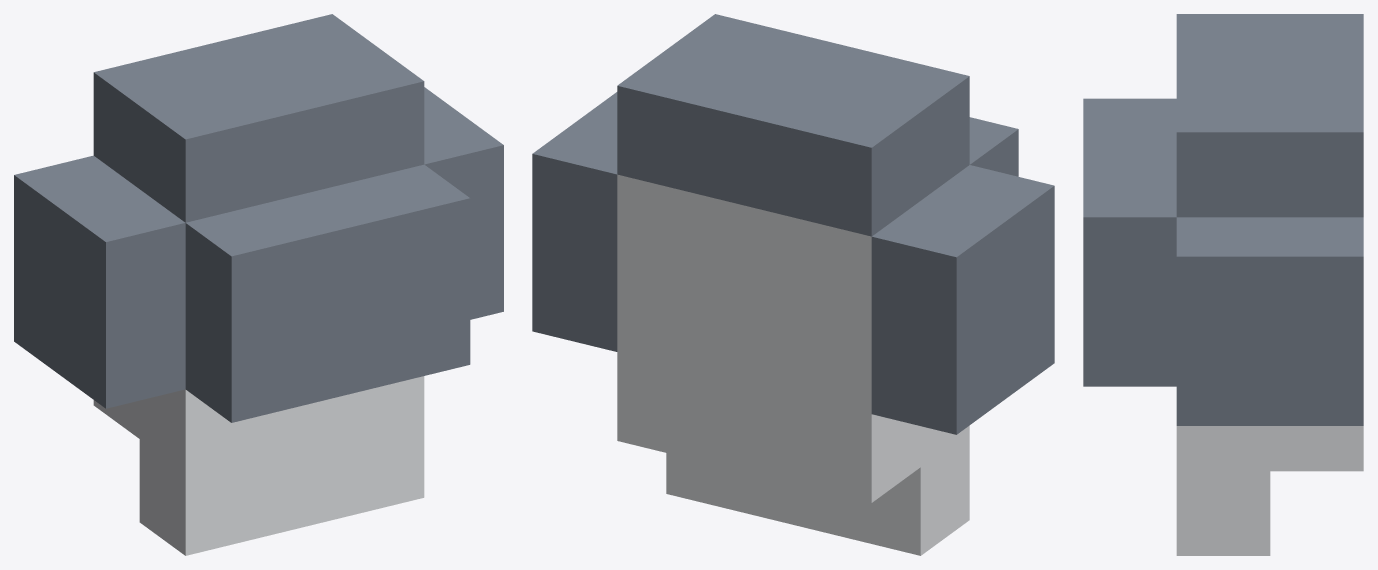
File: toiletpaper.obj
The picture shows the model from 3 angles, left to right: view 1: azimuth 30°, elevation 25°; view 2: azimuth 150°, elevation 25°; view 3: azimuth 270°, elevation 25°; orthographic projection. The views are drawn at different scales.
Size of the model in its own units: 0.5 by 0.5 by 0.3.
Materials: 1 (1 with a texture image).
